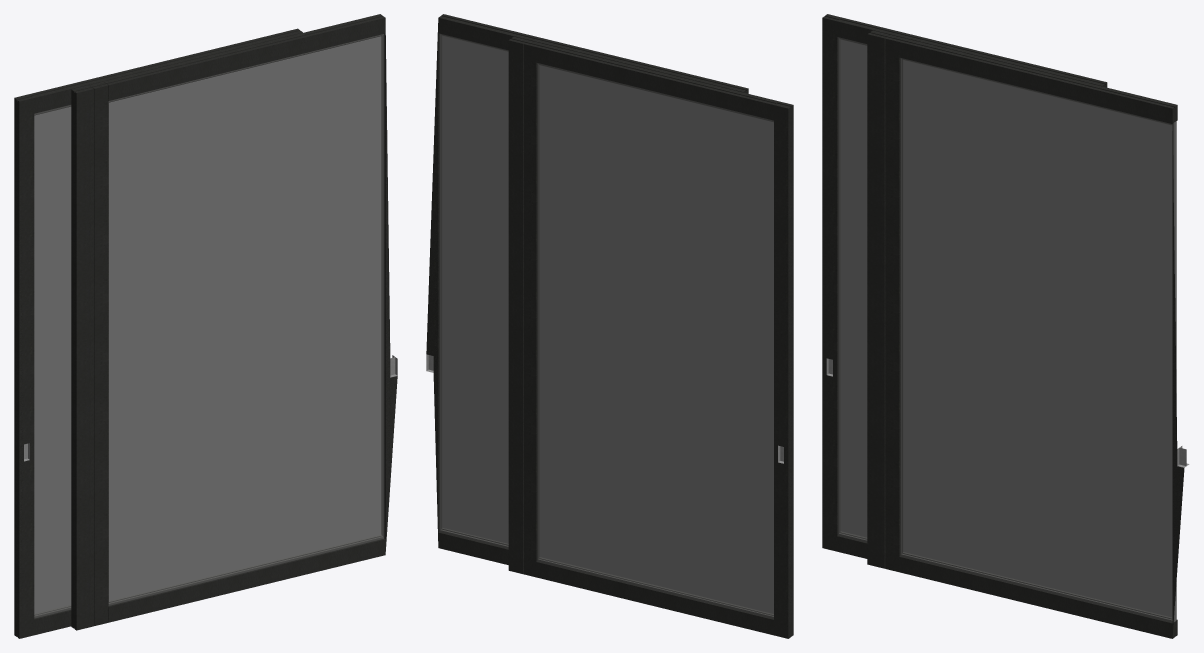
Rendered from stone-cabin.glb.
The picture shows the model from 3 angles, left to right: view 1: azimuth 30°, elevation 25°; view 2: azimuth 150°, elevation 25°; view 3: azimuth 330°, elevation 25°; orthographic projection.
Parts seen in each view (by area): view 1: Material2 (×3); view 2: Material2 (×3); view 3: Material2 (×3).
Boxes of the visible parts, left/top/right/bottom form: Material2 (×3): left=14, top=14, right=397, bottom=638; Material2 (×3): left=426, top=14, right=793, bottom=638; Material2 (×3): left=822, top=14, right=1184, bottom=638.
Size of the model in its own units: 1.56 by 2.15 by 0.0788.
4 materials, 2 textured.
